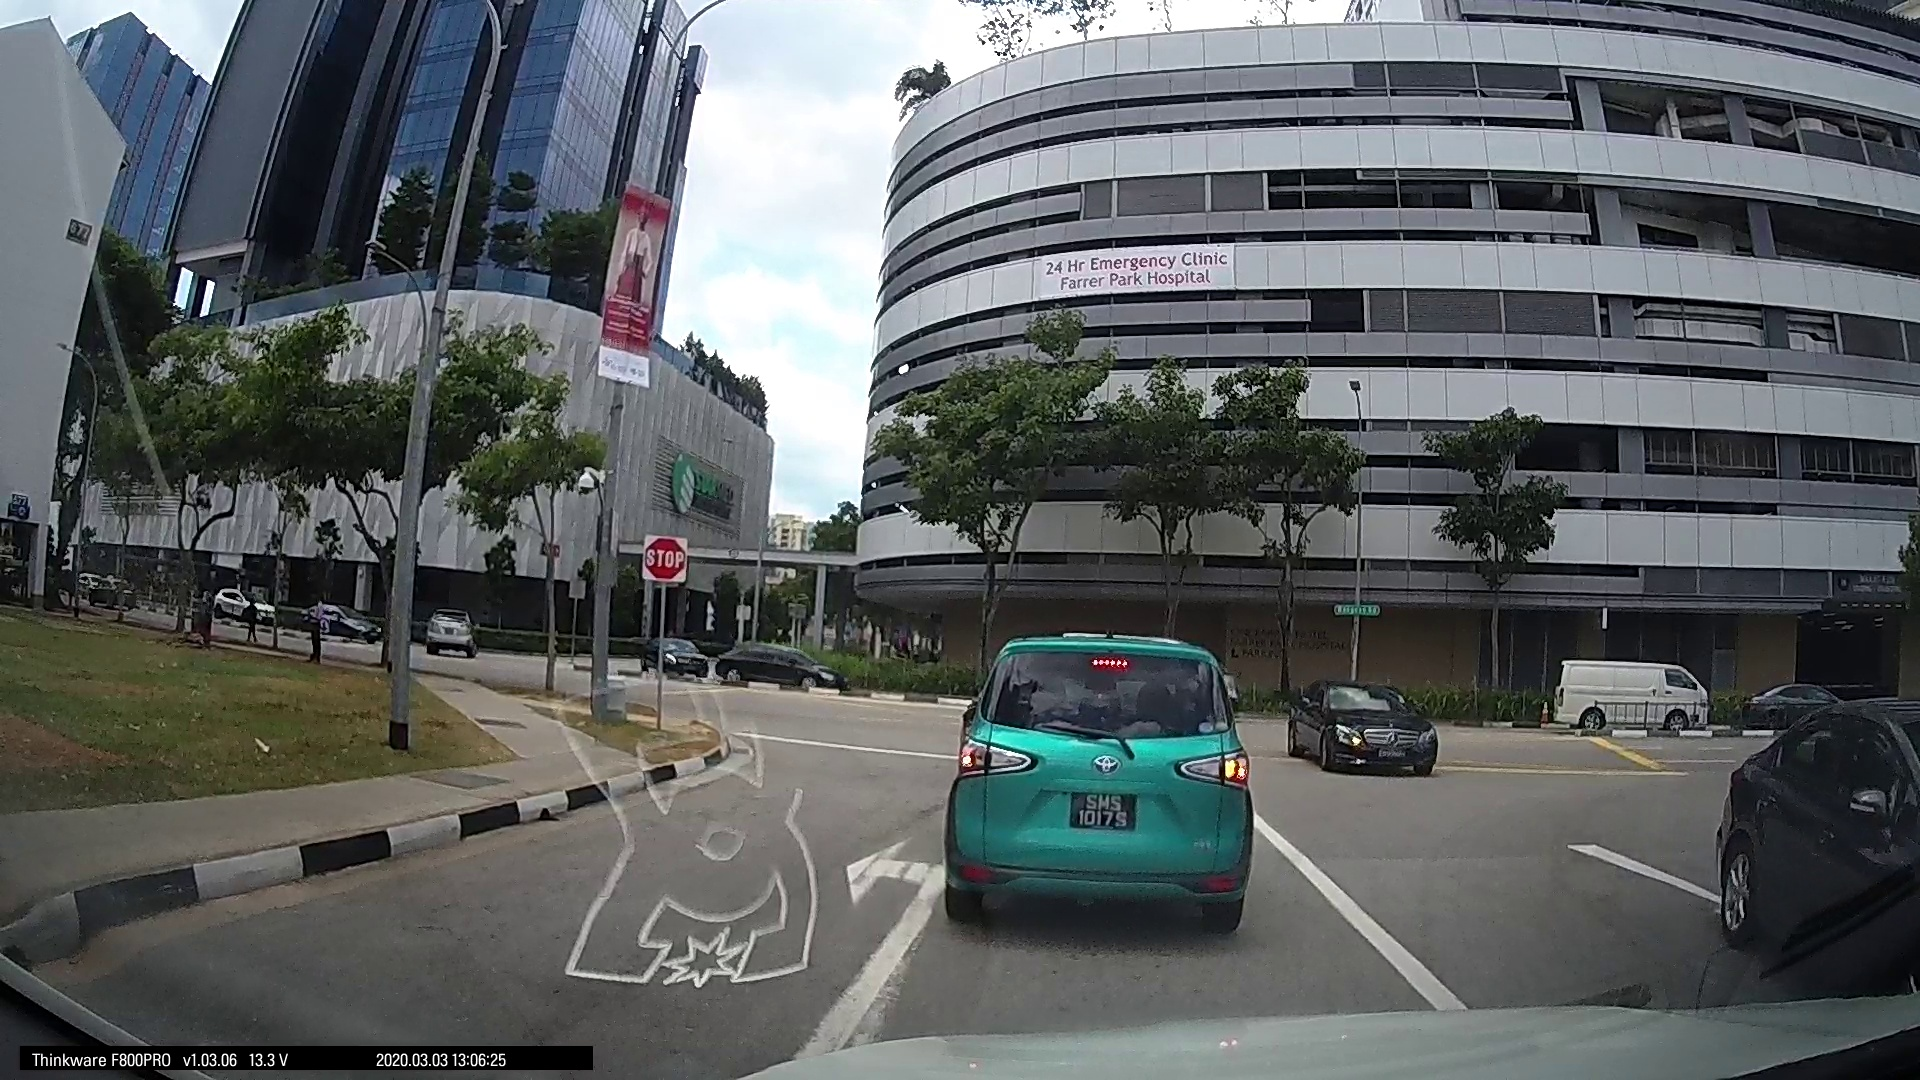Light Vehicle: (931, 615, 1254, 935), (1700, 695, 1916, 977), (1287, 671, 1439, 775), (1549, 651, 1705, 735), (705, 638, 832, 687), (415, 601, 479, 658), (642, 633, 709, 676)
